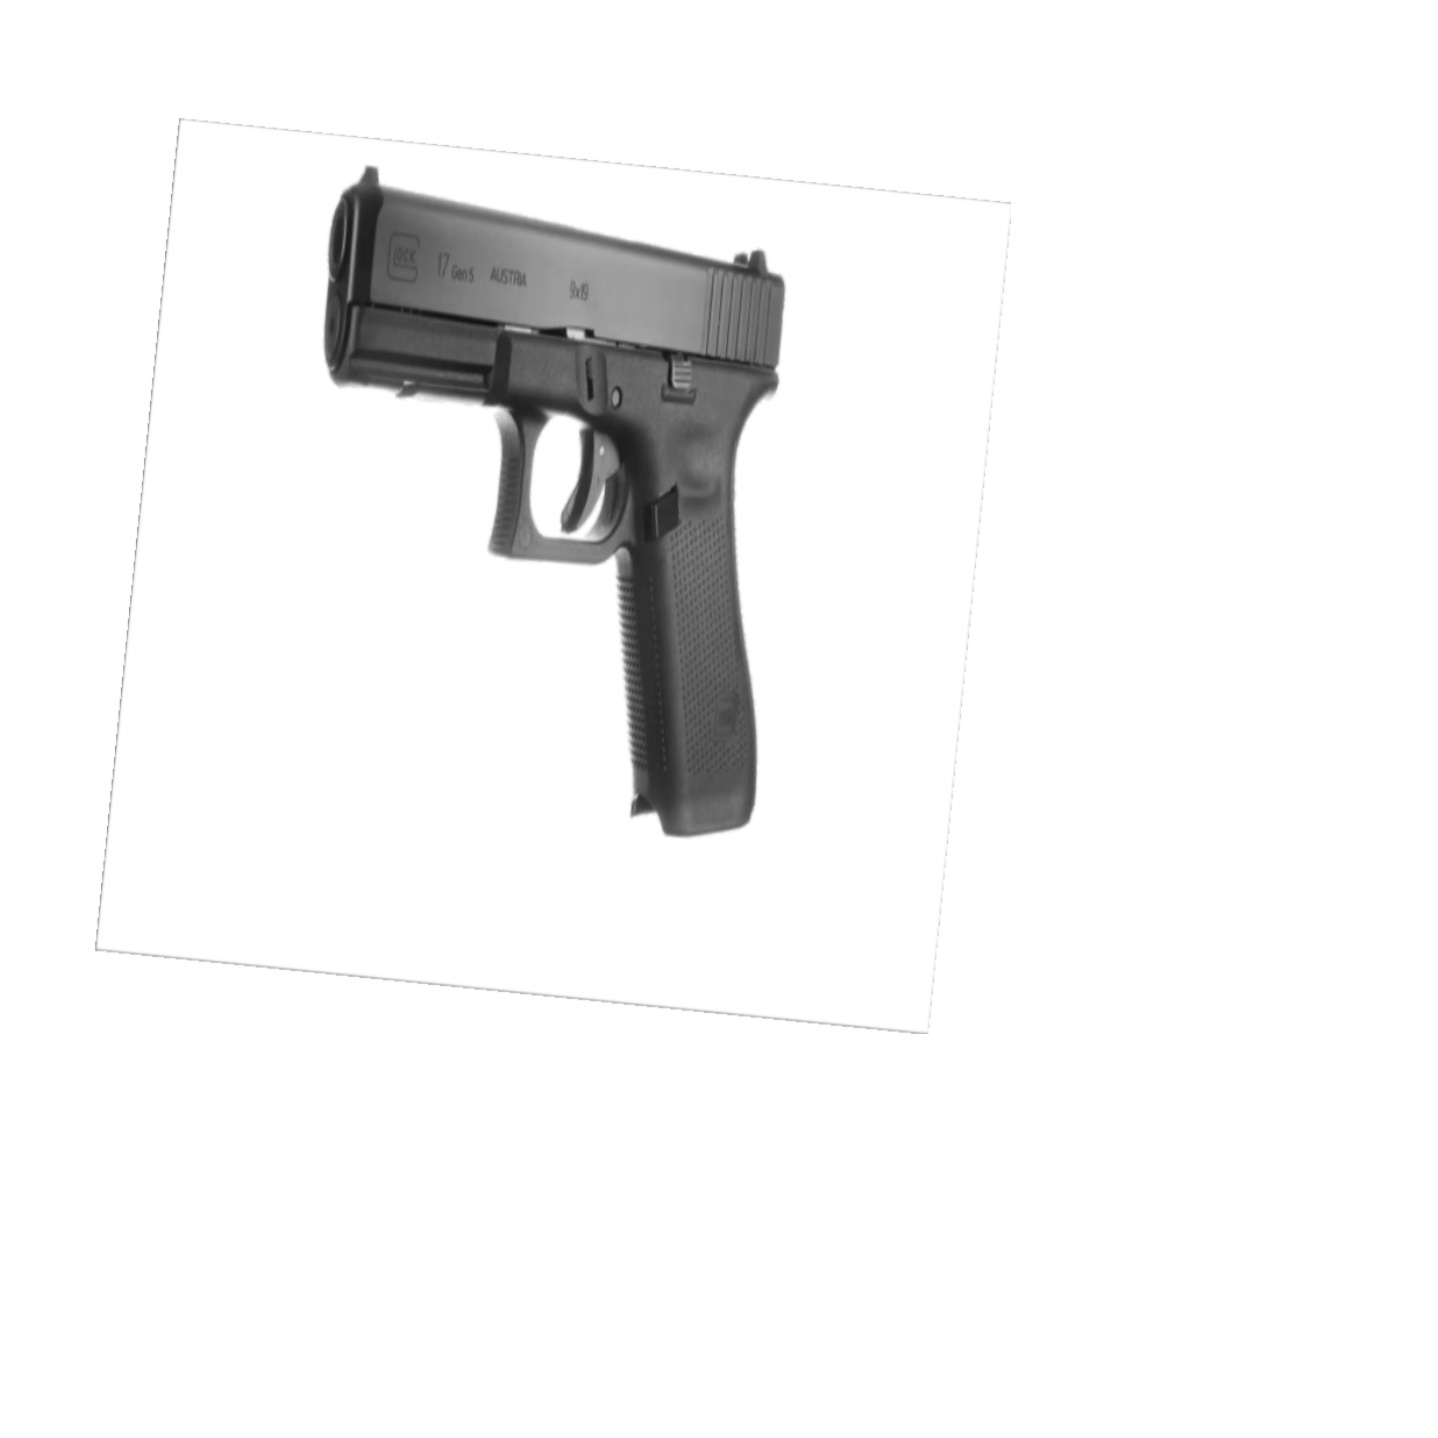gun: (320, 165, 791, 838)
